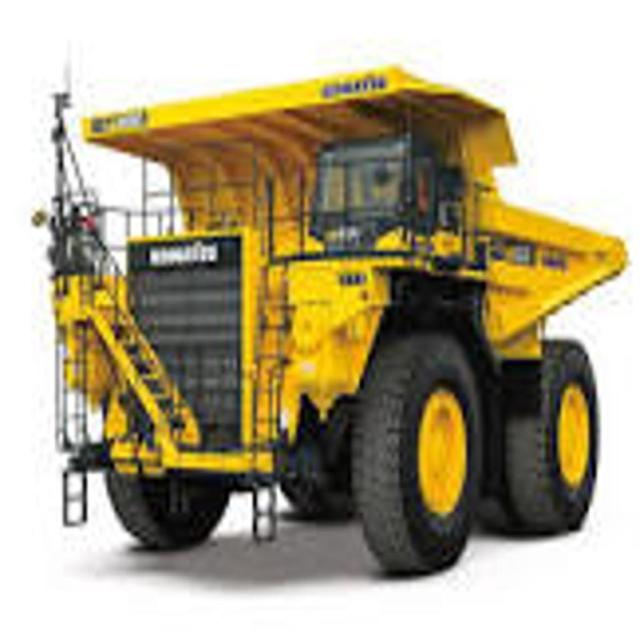dump_truck: (47, 49, 628, 579)
